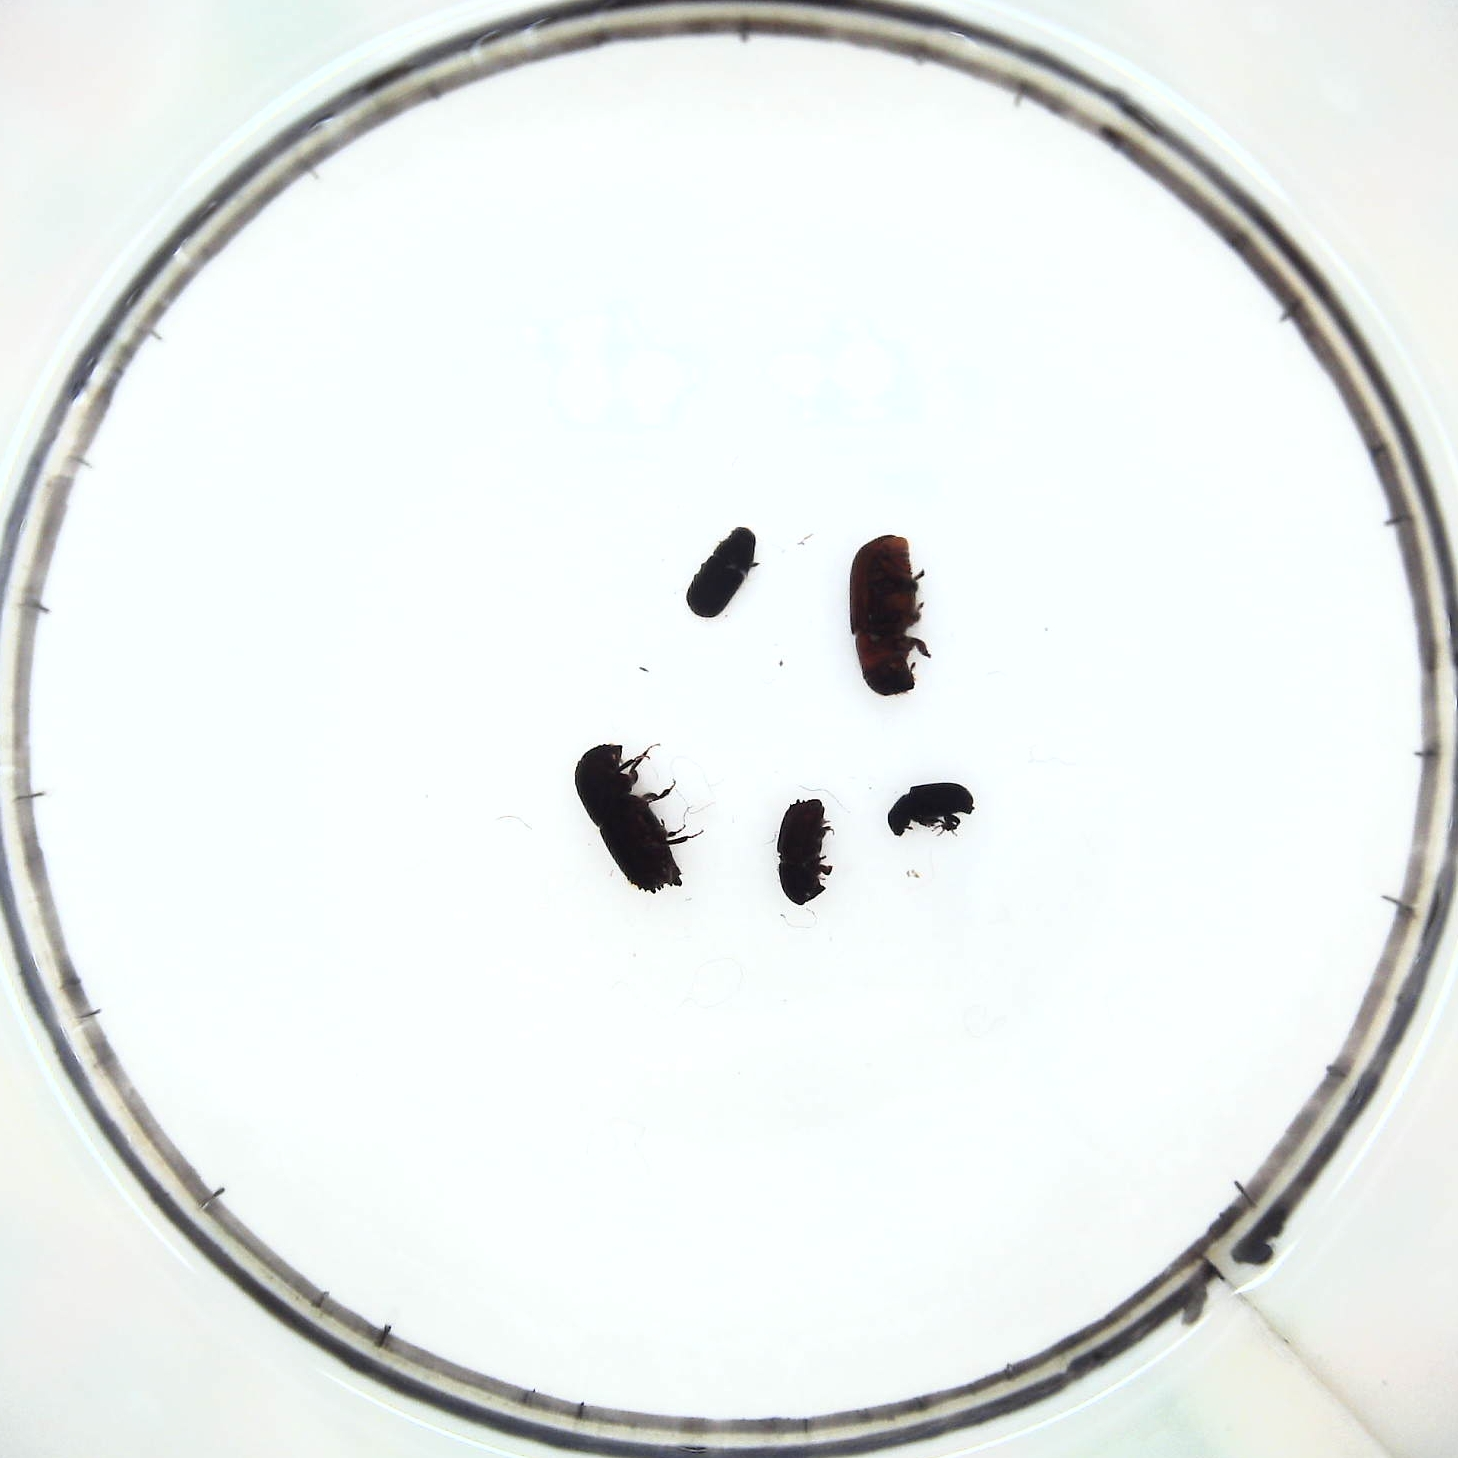Boerner: (575, 741, 693, 895)
Leconte: (849, 531, 935, 698)
Linnaeus: (776, 794, 836, 908)
armandi: (685, 527, 754, 620)
coleoptera: (887, 780, 976, 837)
